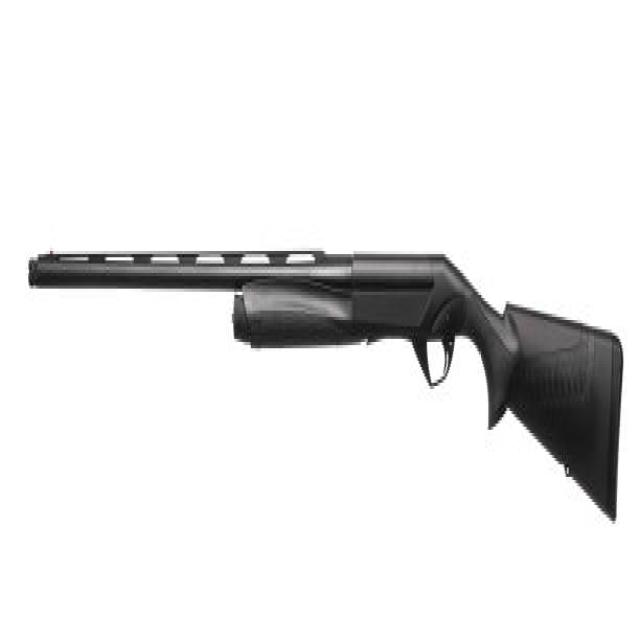rifle: (20, 225, 630, 548)
